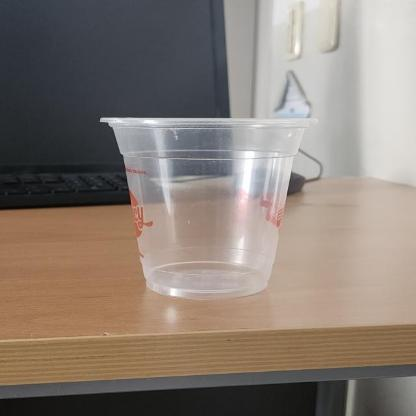Plastic Cup: (100, 114, 316, 304)
